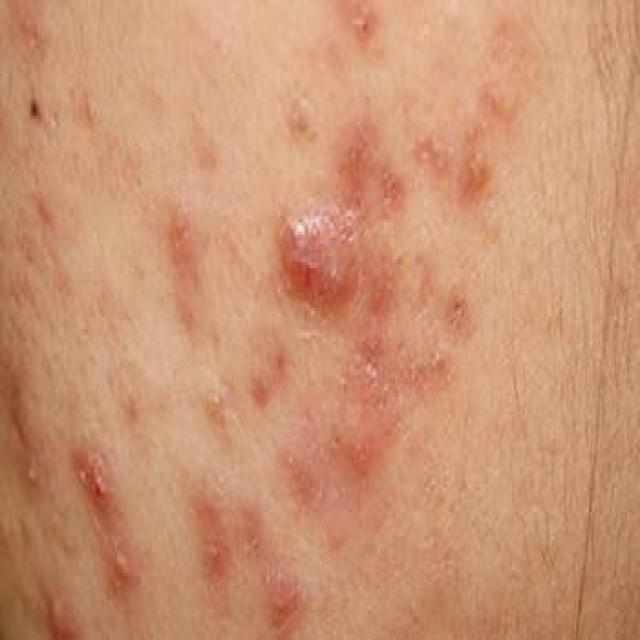comedone: (318, 406, 353, 482)
crystanlline: (258, 189, 360, 314)
pustule: (30, 582, 80, 637), (18, 448, 46, 521)
